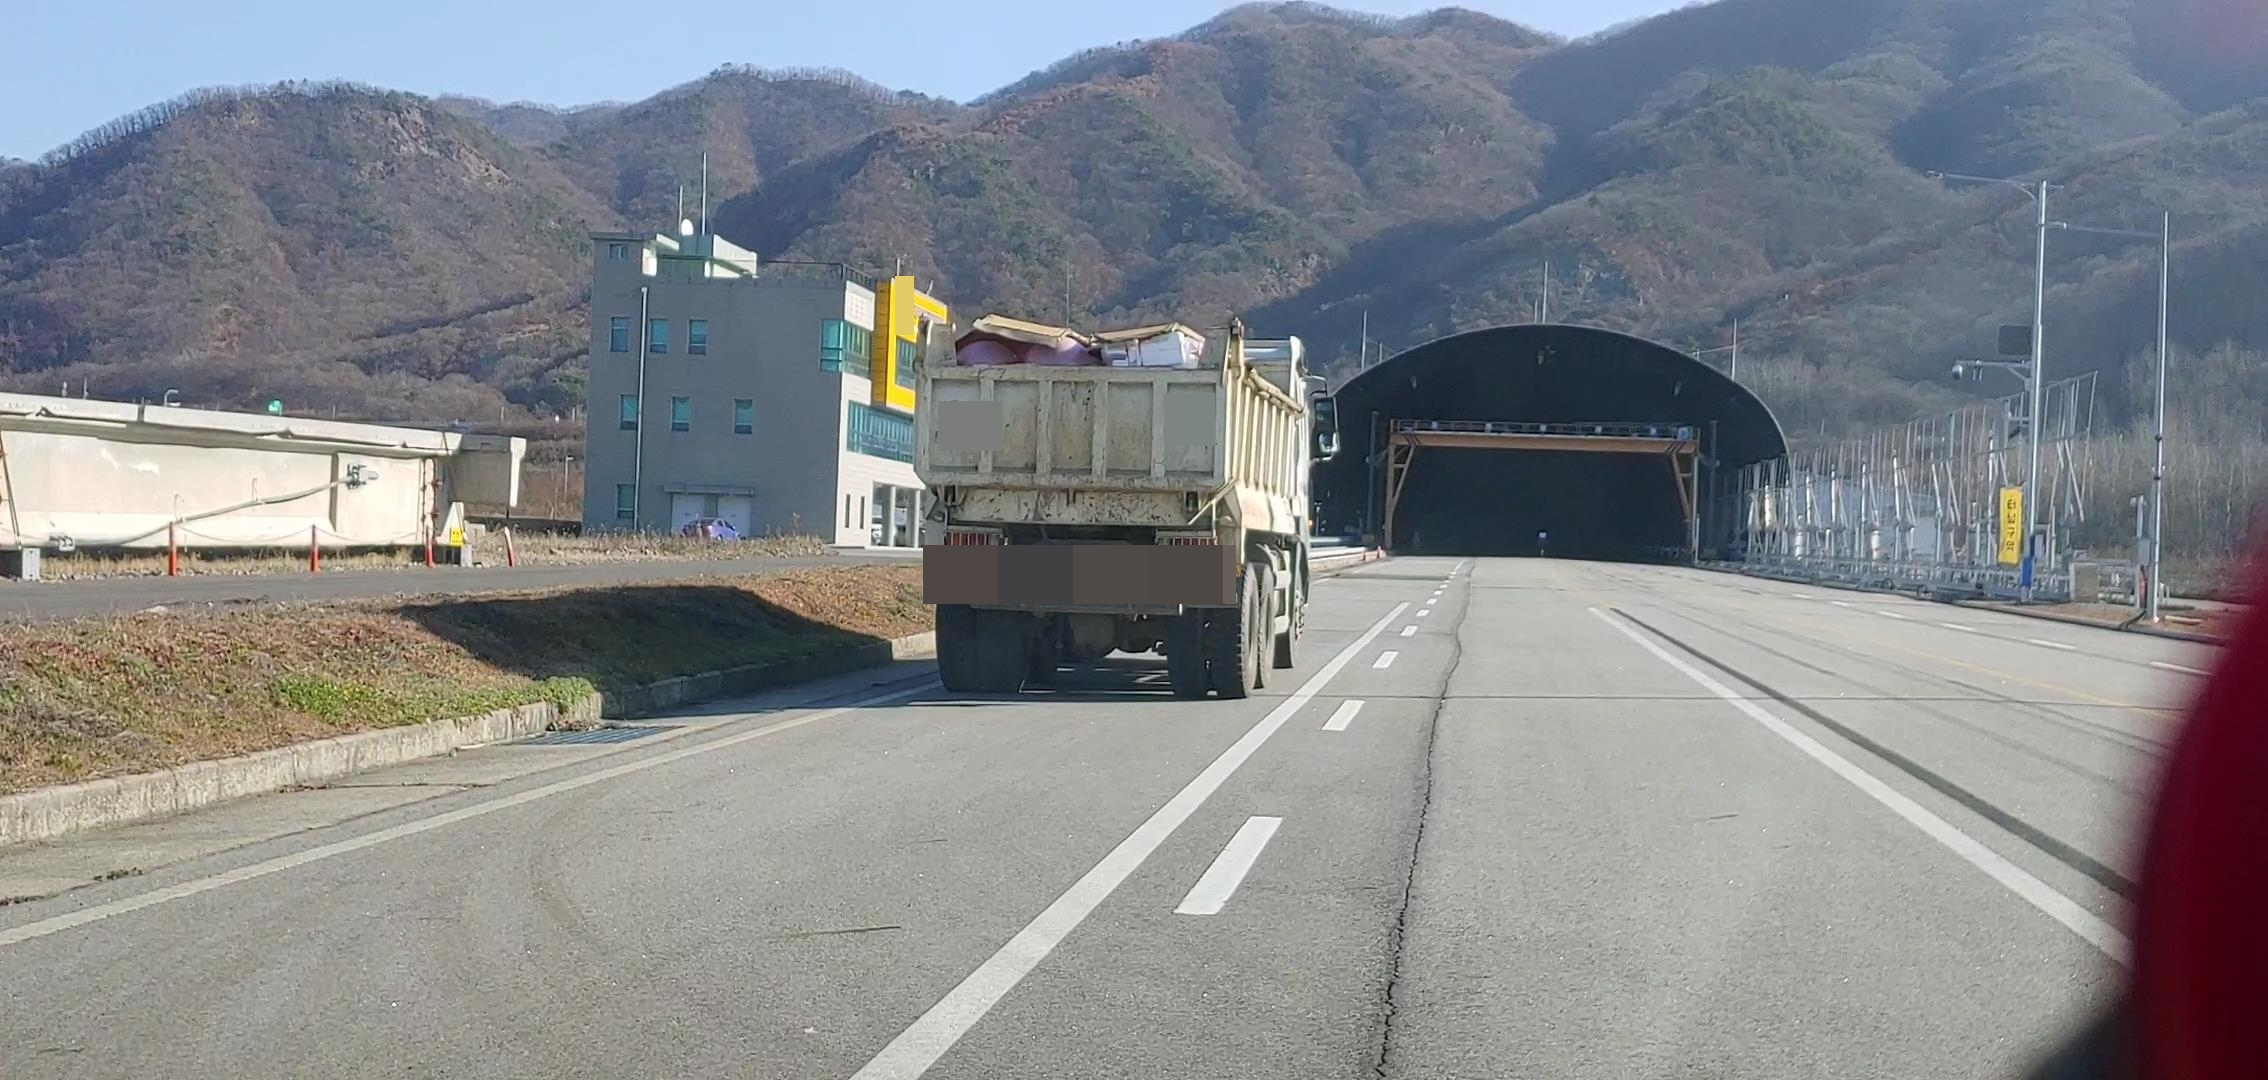불법차량: (912, 311, 1342, 703)
